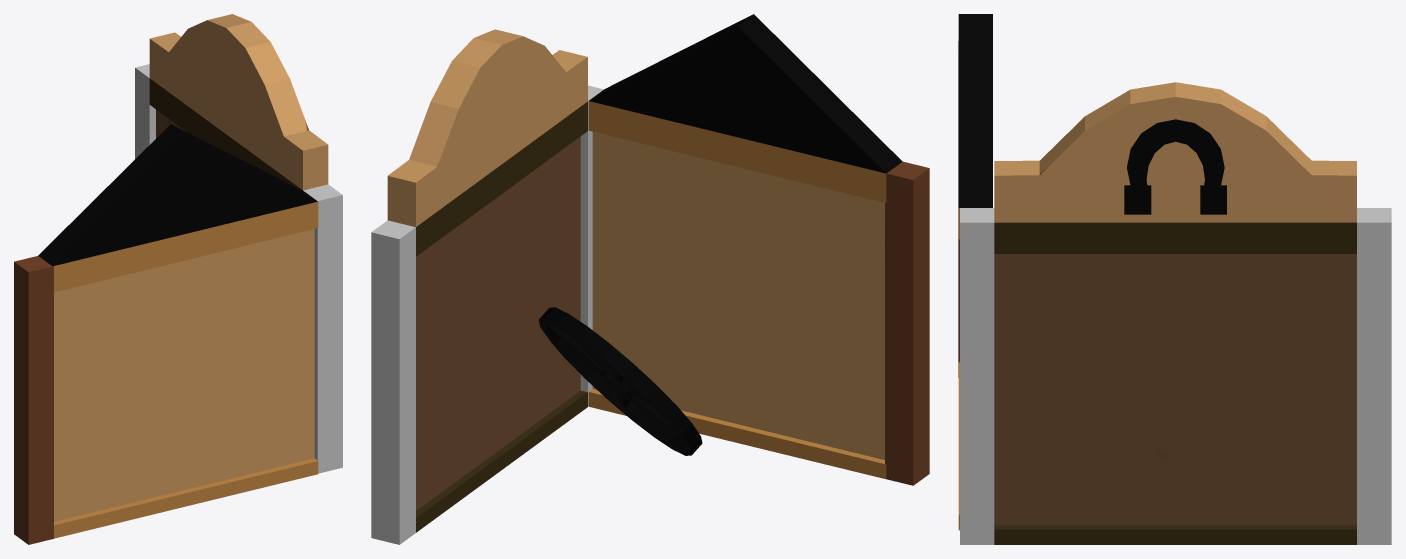
File: Corner_Wall.fbx
The picture shows the model from 3 angles, left to right: view 1: azimuth 30°, elevation 25°; view 2: azimuth 150°, elevation 25°; view 3: azimuth 270°, elevation 25°; orthographic projection. The views are drawn at different scales.
Visible parts, largest first — view 1: Cube.006, Cube.012, Cube.015, Cube.001, Cube.008, Cube.002, Cube.004; view 2: Cube.006, Cube.005, Cube.012, Cube.015, Cube.002, Cube.008, Cube.001, Cube.004, Cube.024; view 3: Cube.005, Cube.015, Cube.002, Cube.004, Cube.012, Cube.016.
Boxes of the visible parts, x1,y1,x2,y2 form: Cube.006: [54, 229, 314, 521]; Cube.012: [38, 124, 317, 266]; Cube.015: [149, 14, 328, 190]; Cube.001: [54, 201, 318, 538]; Cube.008: [14, 256, 53, 544]; Cube.002: [135, 64, 342, 473]; Cube.004: [149, 78, 302, 190]; Cube.006: [592, 132, 884, 459]; Cube.005: [416, 136, 580, 510]; Cube.012: [589, 14, 902, 173]; Cube.015: [387, 29, 587, 226]; Cube.002: [371, 85, 603, 544]; Cube.008: [885, 161, 929, 485]; Cube.001: [588, 101, 886, 478]; Cube.004: [416, 101, 587, 532]; Cube.024: [538, 307, 702, 455]; Cube.005: [994, 254, 1356, 525]; Cube.015: [994, 82, 1356, 222]; Cube.002: [960, 208, 1391, 544]; Cube.004: [994, 222, 1356, 544]; Cube.012: [958, 14, 992, 207]; Cube.016: [1124, 119, 1226, 214].
Size of the model in its own units: 500 by 574 by 502.
